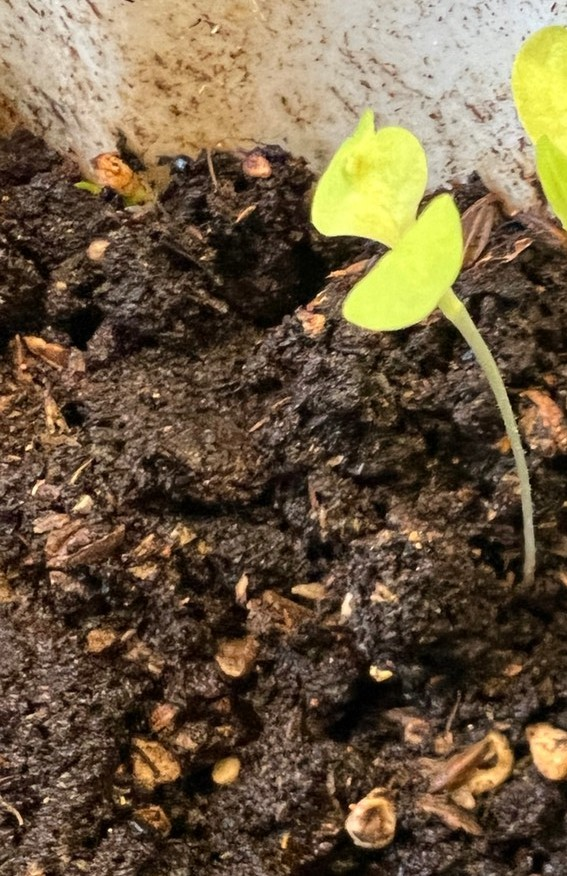week1: (250, 103, 456, 256), (337, 192, 518, 365)
